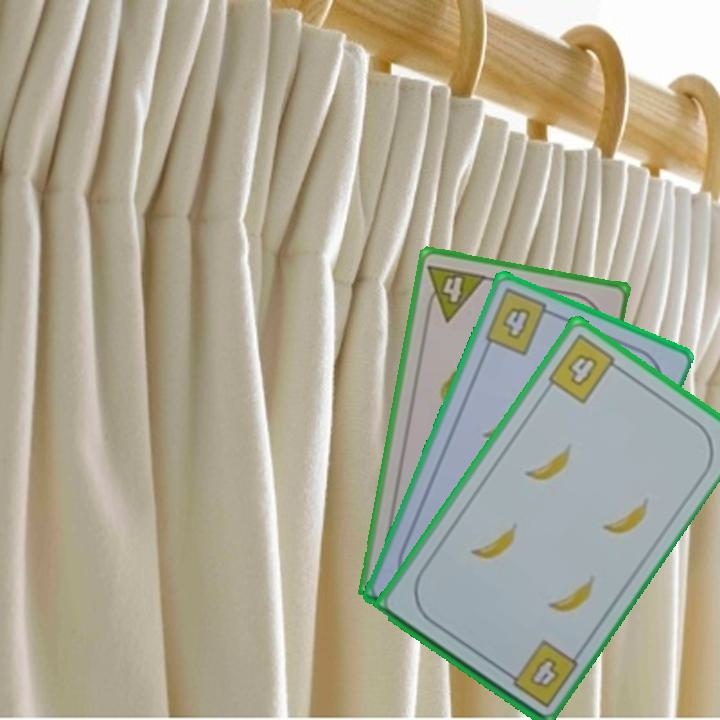4b: (544, 330, 625, 407), (498, 636, 581, 710), (481, 284, 559, 359)
4p: (421, 260, 489, 324)
